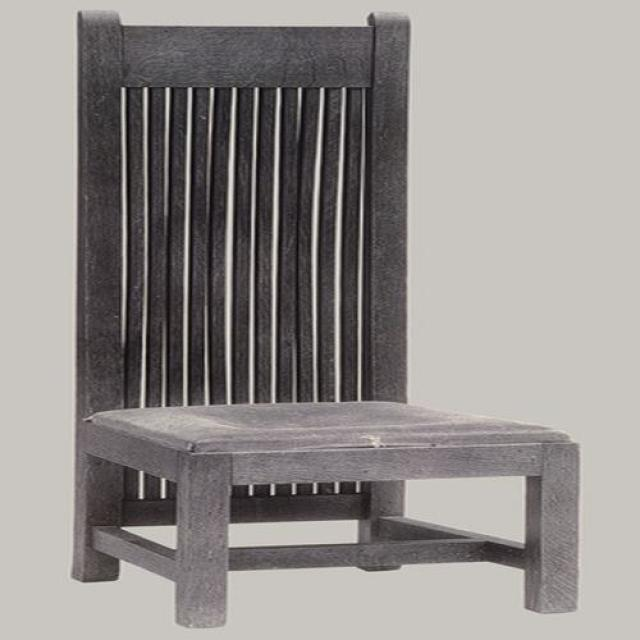chair: (72, 14, 581, 632)
